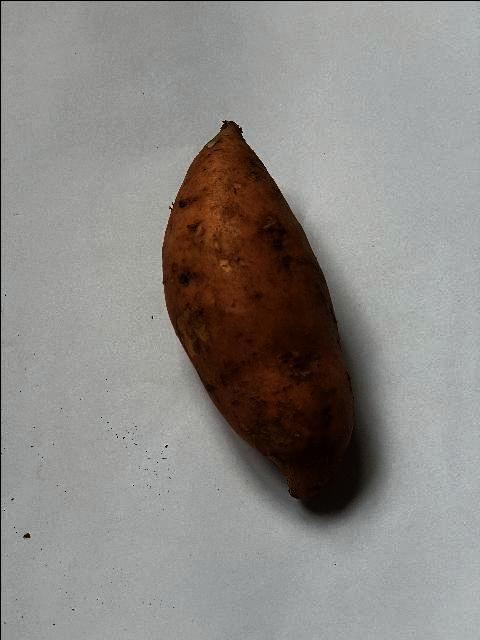sweetpotato: (157, 112, 359, 504)
